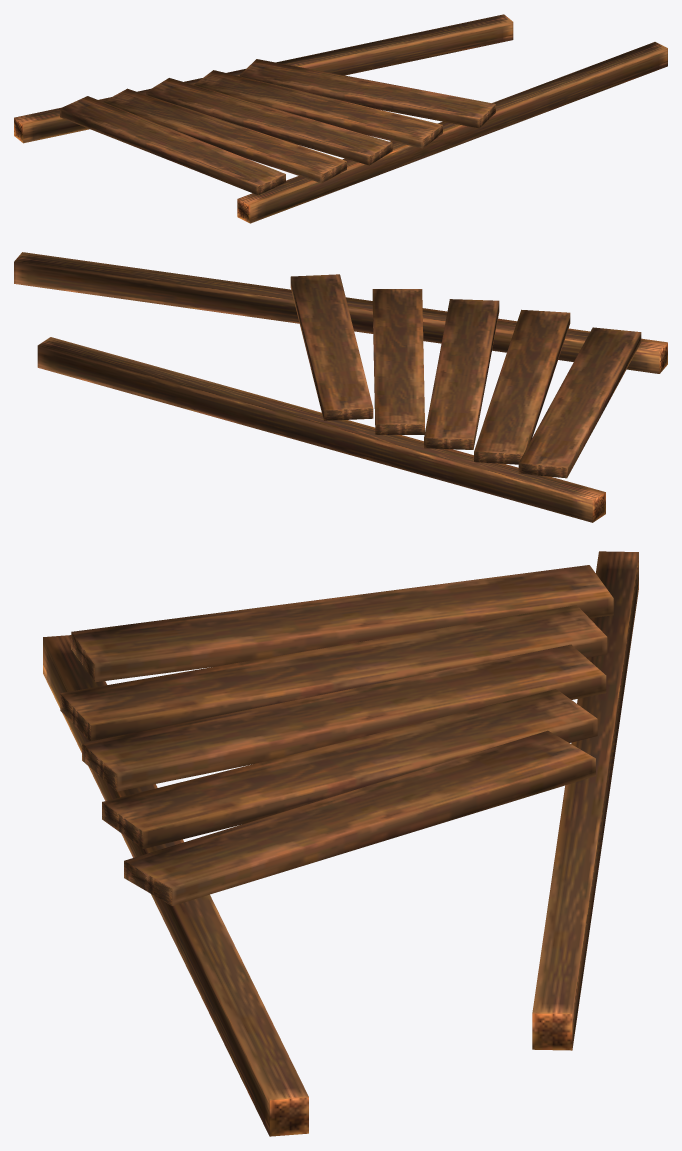
File: SWORDLIGHT20_JAILPLATFORM01.fbx
3 renders of one model, top to bottom at view 1: azimuth 30°, elevation 25°; view 2: azimuth 150°, elevation 25°; view 3: azimuth 270°, elevation 25°, orthographic. The views are drawn at different scales.
Visible parts, largest first — view 1: SWORDLIGHT20_JAILPLATFORM01; view 2: SWORDLIGHT20_JAILPLATFORM01; view 3: SWORDLIGHT20_JAILPLATFORM01.
Part boxes in pixels (<box>): SWORDLIGHT20_JAILPLATFORM01: <box>14,14,667,223</box>; SWORDLIGHT20_JAILPLATFORM01: <box>14,252,667,522</box>; SWORDLIGHT20_JAILPLATFORM01: <box>43,551,638,1136</box>.
Bounding box in the file's own units: 129402 × 6188 × 59395.
2 materials, 2 textured.
